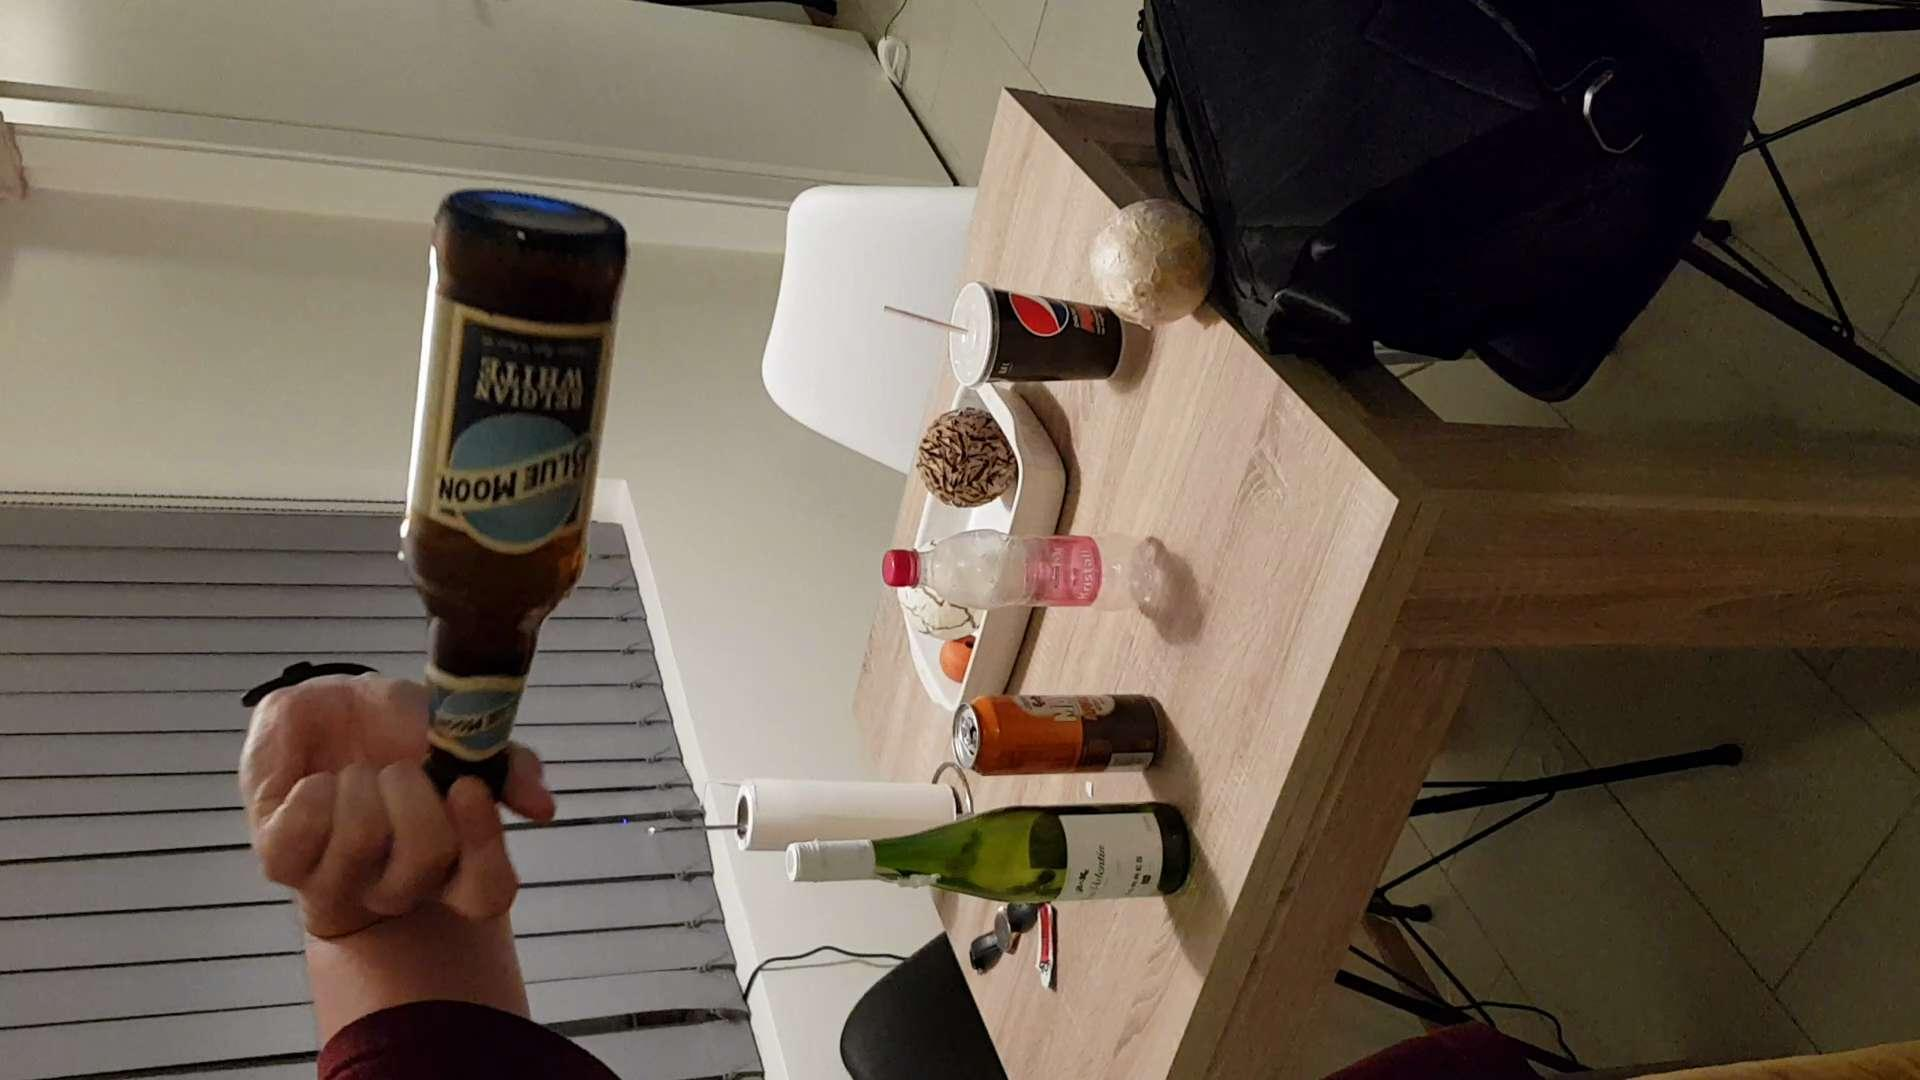Bottle: (398, 170, 628, 799), (785, 796, 1209, 913), (872, 531, 1197, 632)
Can: (938, 691, 1180, 782)
Sphere: (1095, 185, 1209, 330), (914, 393, 1007, 508)
